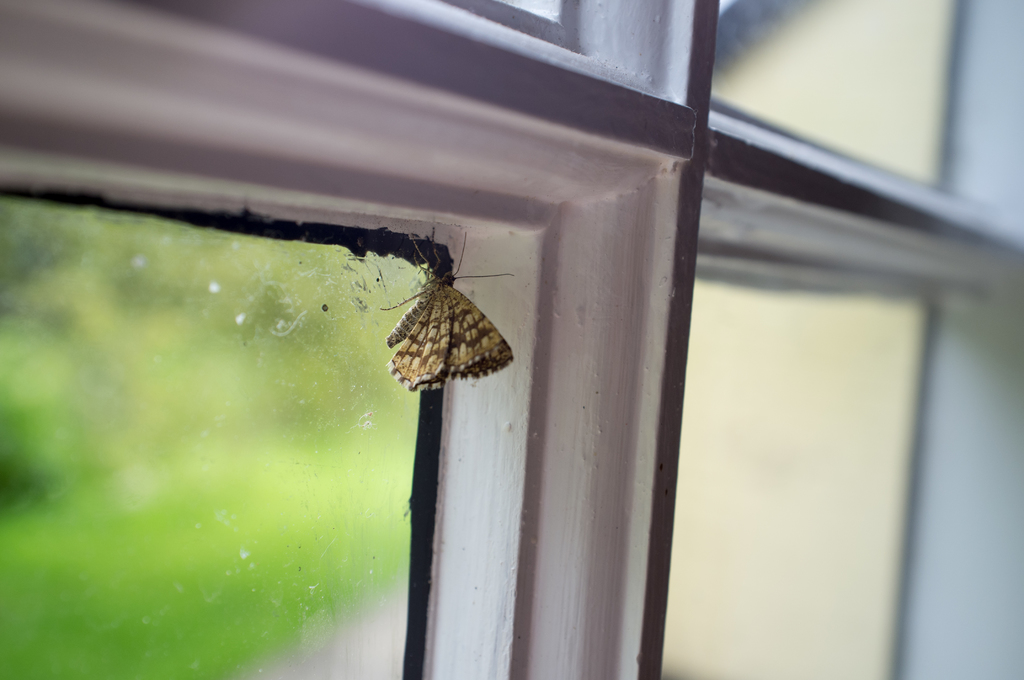Butterfly: (379, 228, 498, 394)
